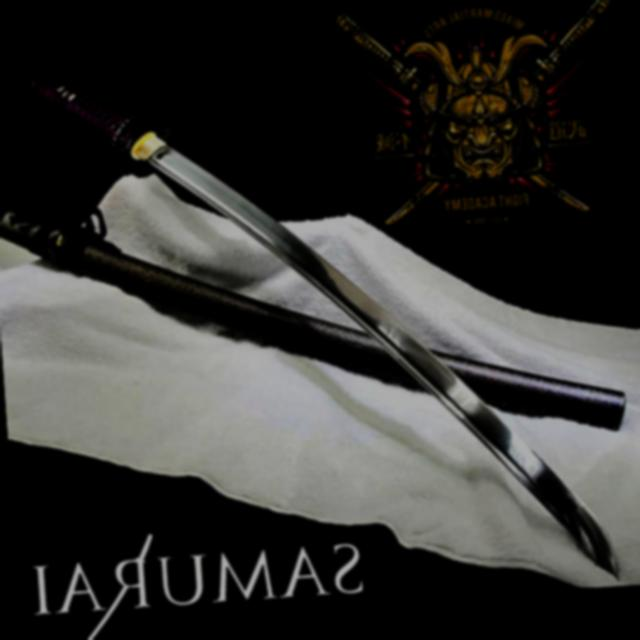long sword: (23, 39, 623, 620)
